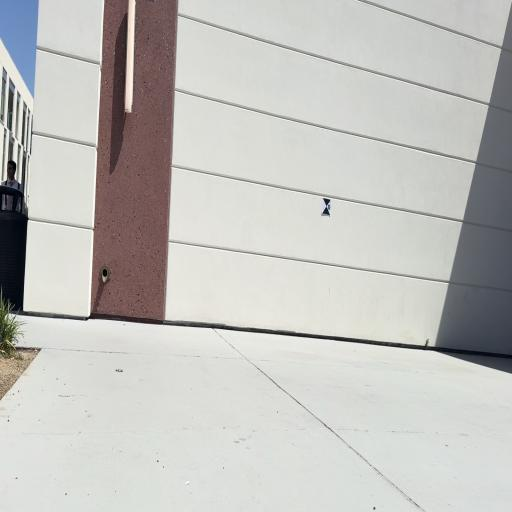target0: (321, 197, 331, 217)
